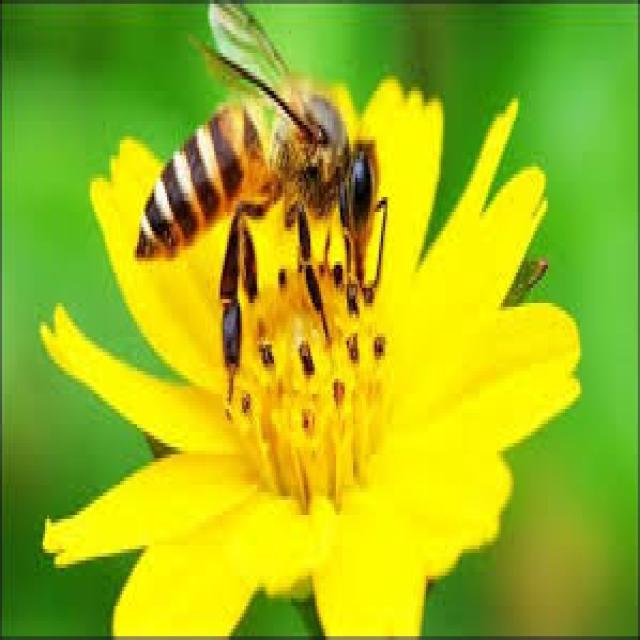Bees: (130, 0, 390, 409)
